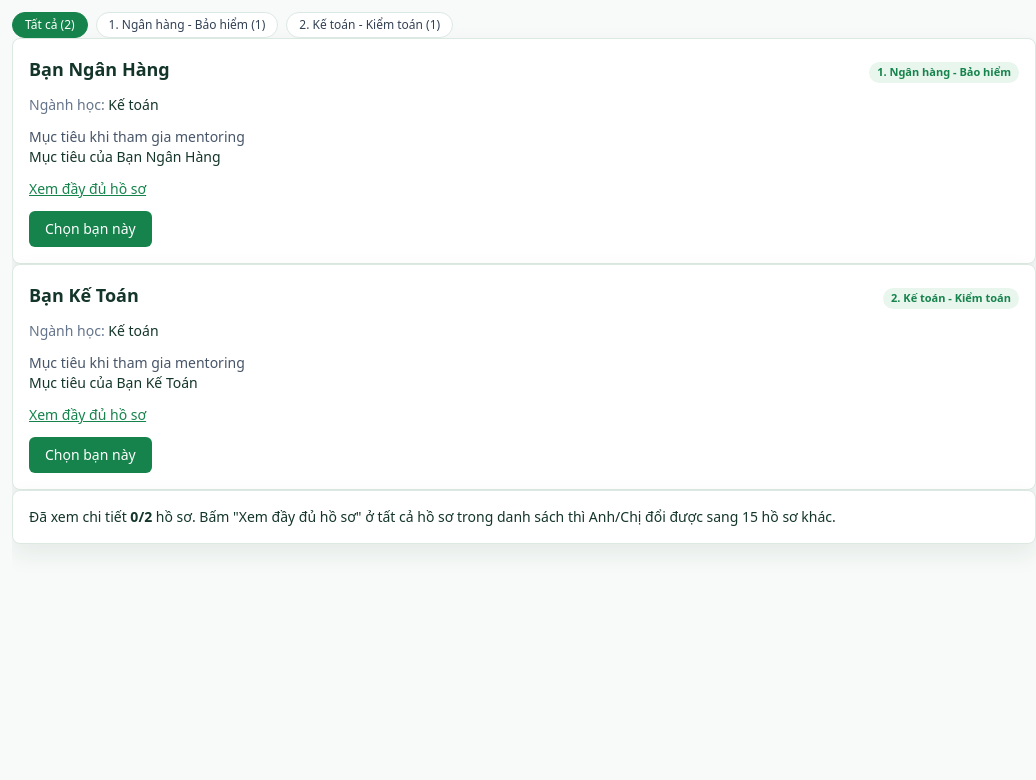
Scenario: đổi 15 hồ sơ khác (BTC 15/10/2026) › chưa xem hết: chỉ có dòng tiến độ, không có nút; xem hết từng thẻ thì nút mới hiện
Expected: the element with test id "swap-progress" shows "Đã xem chi tiết 0/2 hồ sơ", 29,507 -> 836,526
Click the button "Xem đầy đủ hồ sơ" below "Mục tiêu của Bạn Kế Toán": (88, 415) 29,405 -> 146,425
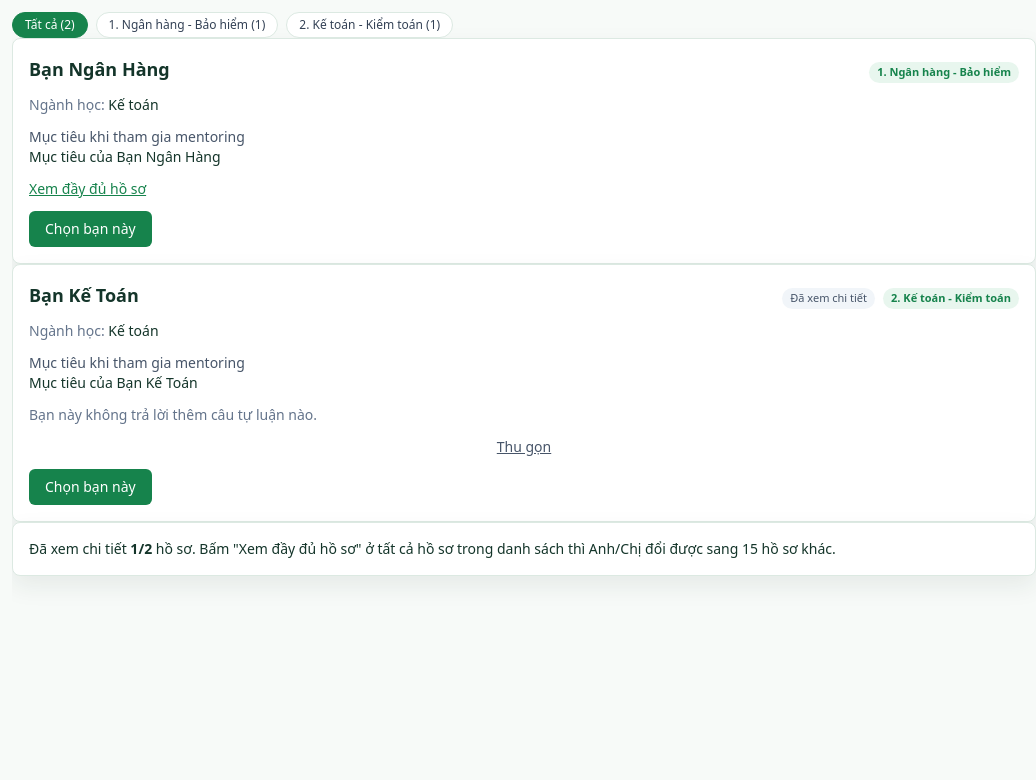
Expected: the element with test id "swap-progress" shows "Đã xem chi tiết 1/2 hồ sơ", 29,539 -> 836,558
Click the button "Xem đầy đủ hồ sơ": (88, 189) 29,179 -> 146,199
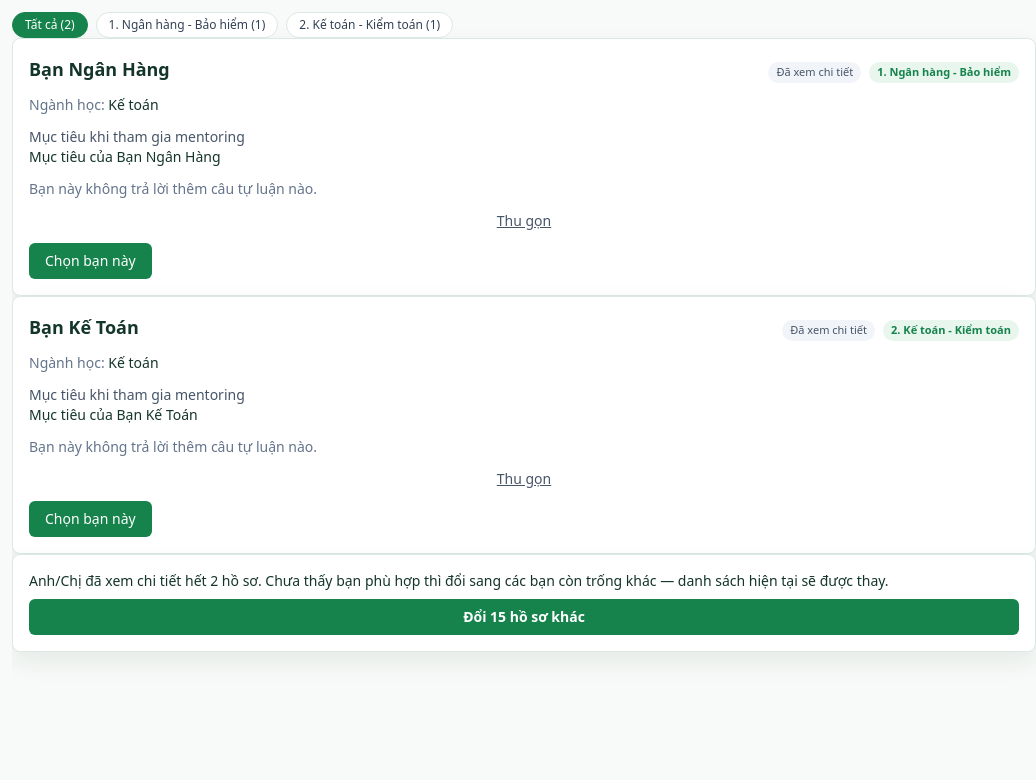
Expected: the button with test id "swap-button" reads "Đổi 15 hồ sơ khác", 29,599 -> 1019,635
